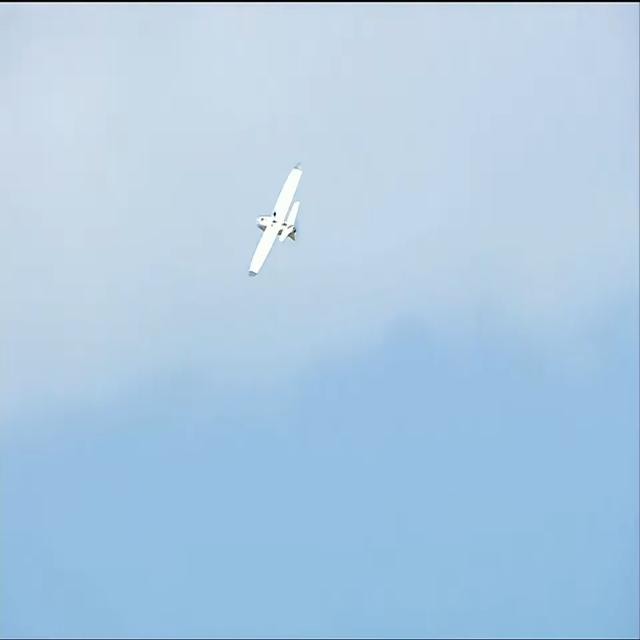iha: (248, 198, 302, 248)
